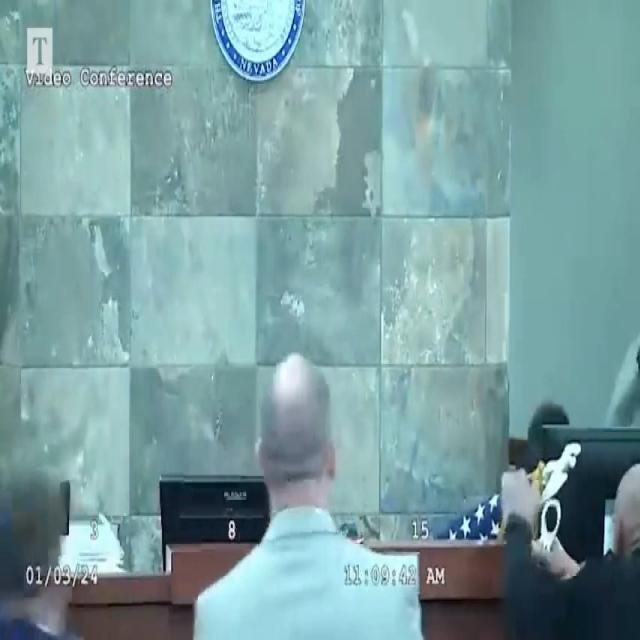non-fight: (184, 327, 427, 640), (485, 450, 640, 639), (0, 452, 113, 640)
